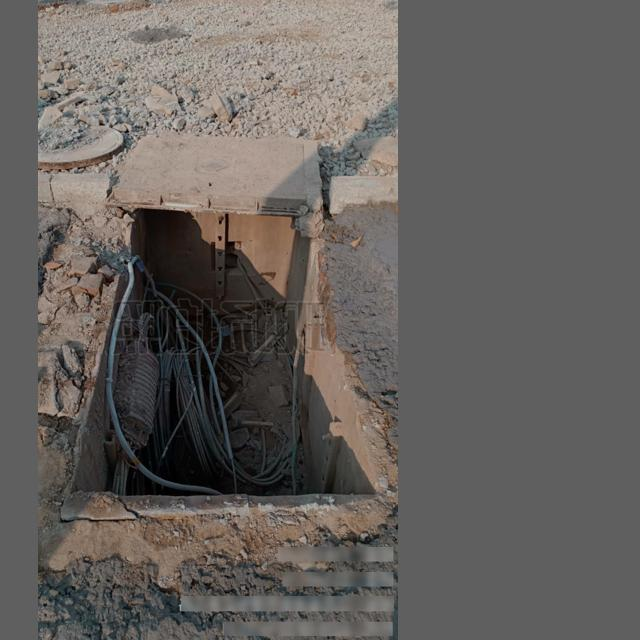lose: (60, 199, 395, 524)
